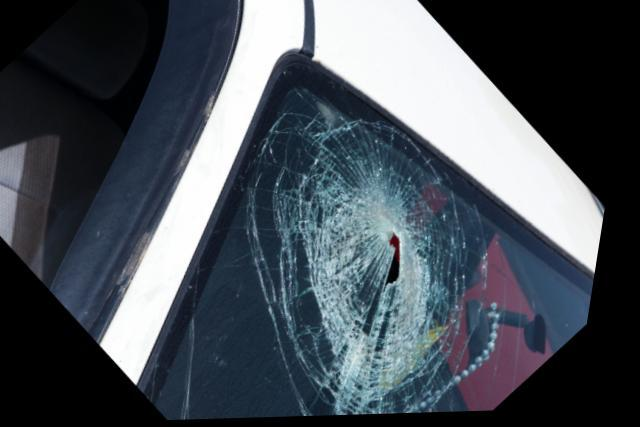glass shatter: (156, 64, 603, 422)
